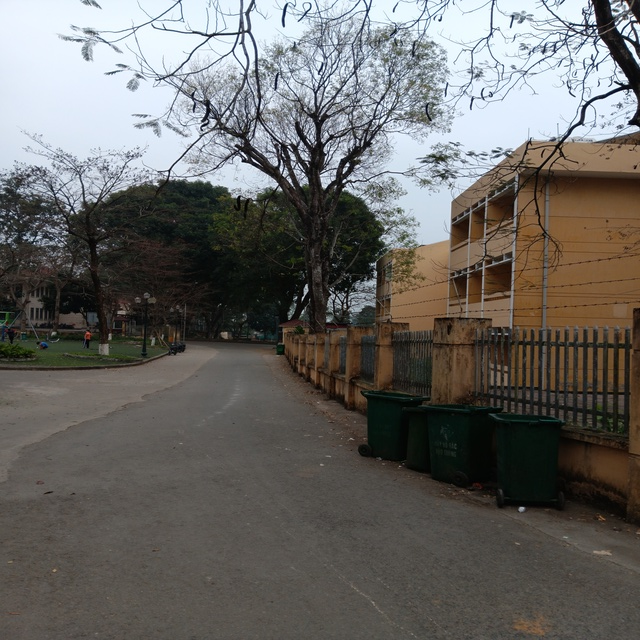thungrac: (489, 412, 567, 515), (429, 400, 490, 490), (365, 384, 408, 460), (402, 401, 428, 466)
